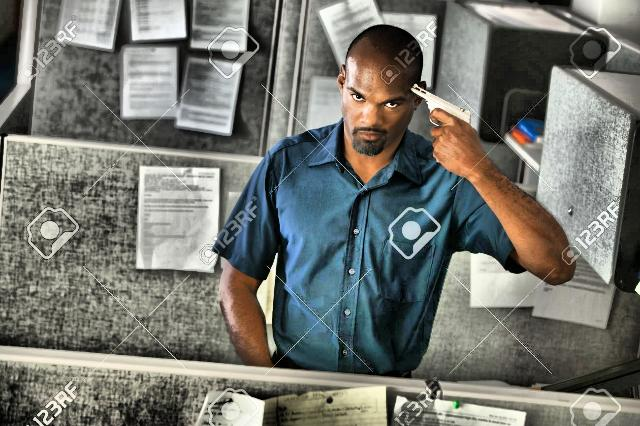pistol: (404, 76, 476, 172)
